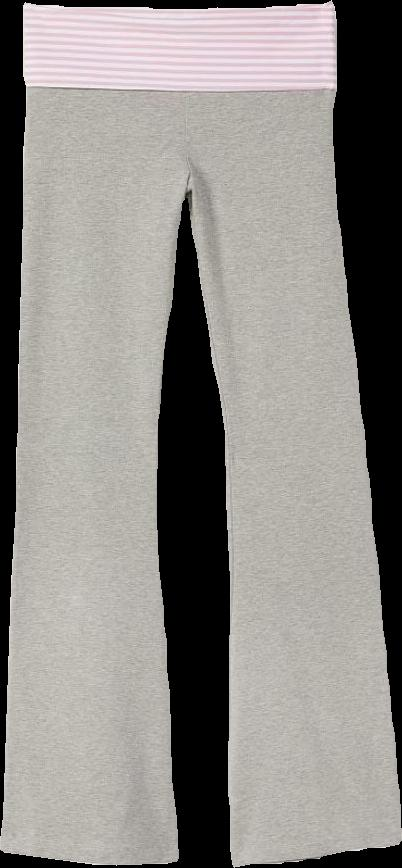Pantleg: (189, 2, 401, 865), (0, 3, 193, 863)
Waistline: (24, 78, 340, 96), (21, 0, 335, 18)
